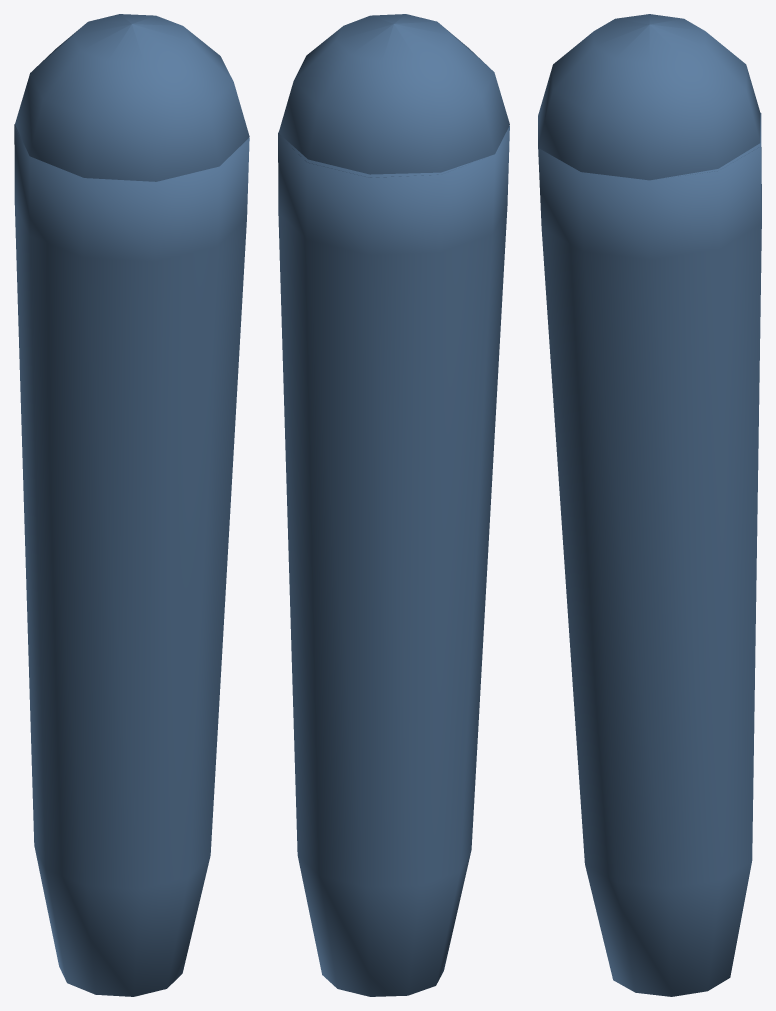
File: shin_R.obj
The picture shows the model from 3 angles, left to right: view 1: azimuth 30°, elevation 25°; view 2: azimuth 150°, elevation 25°; view 3: azimuth 270°, elevation 25°; orthographic projection.
Visible parts, largest first — view 1: shin_R; view 2: shin_R; view 3: shin_R.
Boxes of the visible parts, box(x1,y1,x2,y2) form: shin_R: box(14, 14, 249, 996); shin_R: box(278, 14, 509, 996); shin_R: box(538, 14, 761, 996).
Bounding box in the file's own units: 0.1071 × 0.4849 × 0.1022.
